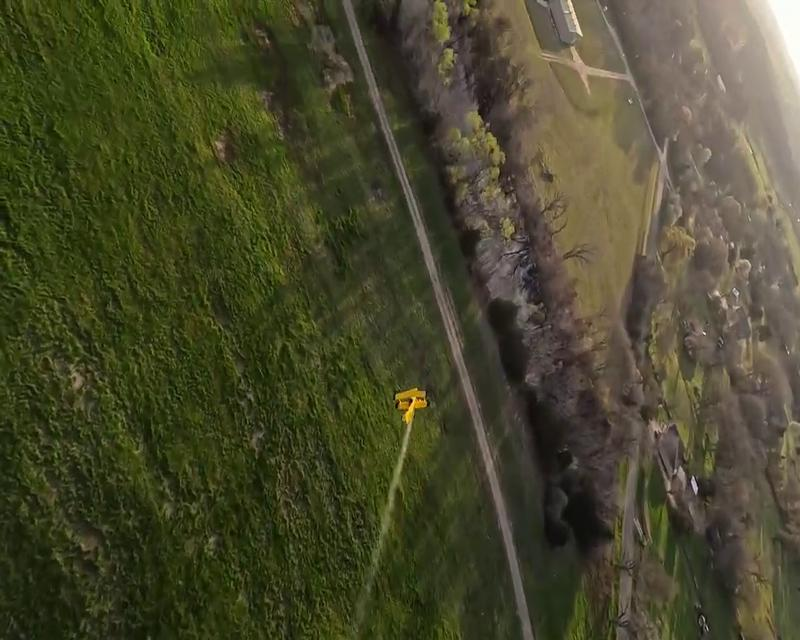UAV: (394, 388, 430, 424)
